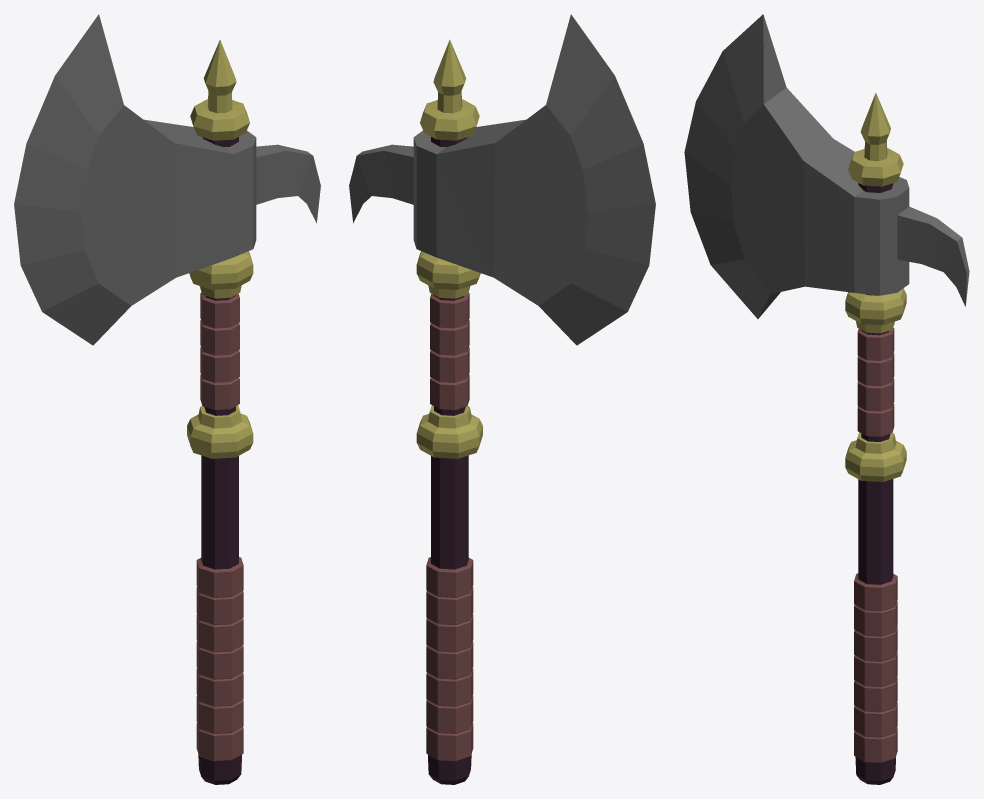
3 renders of one model, left to right at view 1: azimuth 30°, elevation 25°; view 2: azimuth 150°, elevation 25°; view 3: azimuth 330°, elevation 25°, orthographic. The views are drawn at different scales.
Parts seen in each view (by area): view 1: polySurface36; view 2: polySurface36; view 3: polySurface36.
Part boxes in pixels (<box>): polySurface36: <box>14,14,320,784</box>; polySurface36: <box>349,14,655,784</box>; polySurface36: <box>684,14,969,784</box>.
Size of the model in its own units: 27.73 by 68.83 by 5.72.
